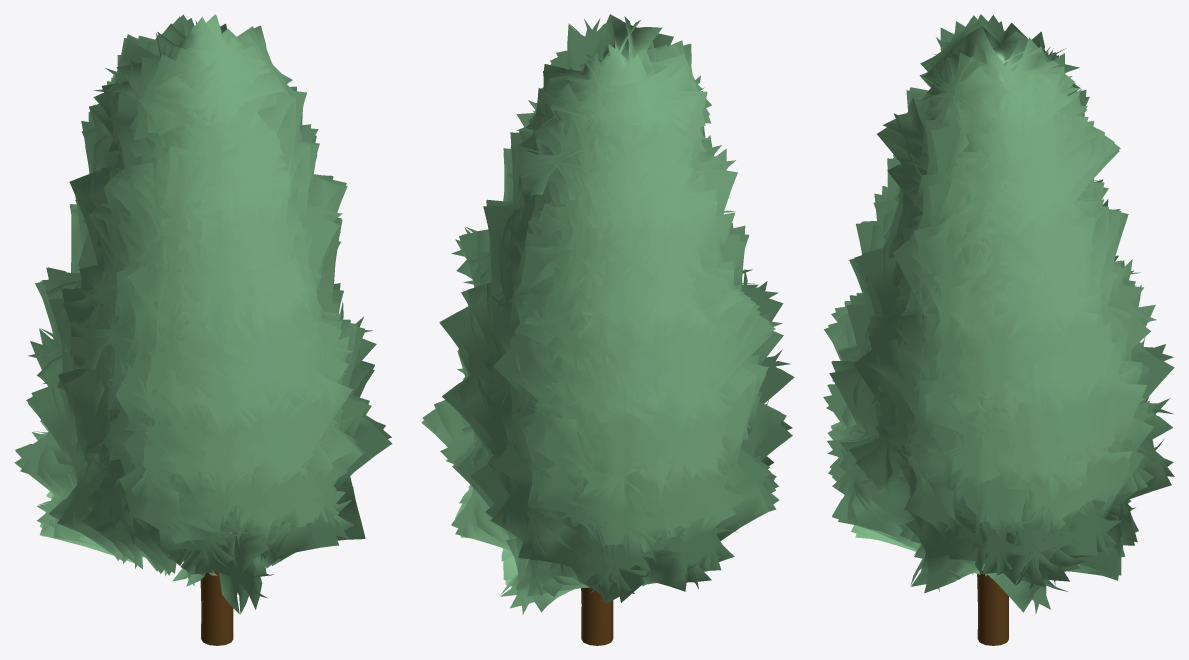
File: Arbre Test2.fbx
The picture shows the model from 3 angles, left to right: view 1: azimuth 30°, elevation 25°; view 2: azimuth 150°, elevation 25°; view 3: azimuth 270°, elevation 25°; orthographic projection. The views are drawn at different scales.
Visible parts, largest first — view 1: Plane.007, Cylinder; view 2: Plane.007, Cylinder; view 3: Plane.007, Cylinder.
Part boxes in pixels (x1,y1,x2,y2): Plane.007: (14, 14, 392, 614); Cylinder: (200, 571, 233, 645); Plane.007: (421, 14, 794, 614); Cylinder: (581, 587, 613, 645); Plane.007: (823, 14, 1174, 613); Cylinder: (977, 570, 1008, 645).
Size of the model in its own units: 260 by 502 by 262.
